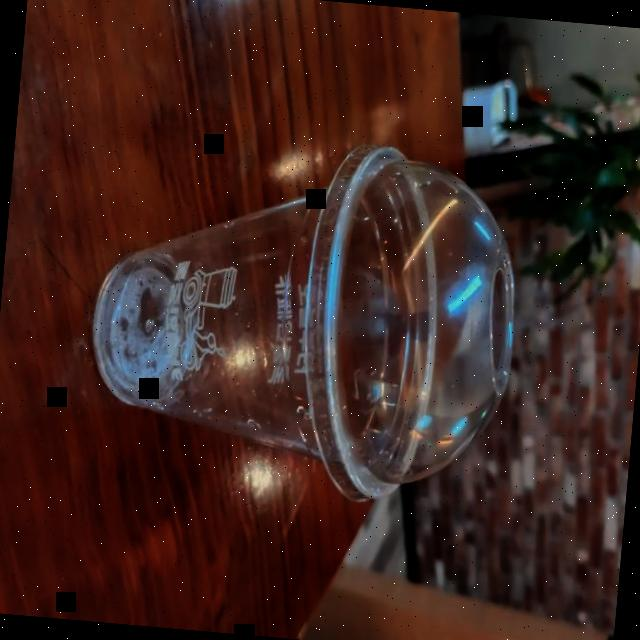plastic_cup_lid: (276, 123, 532, 518)
